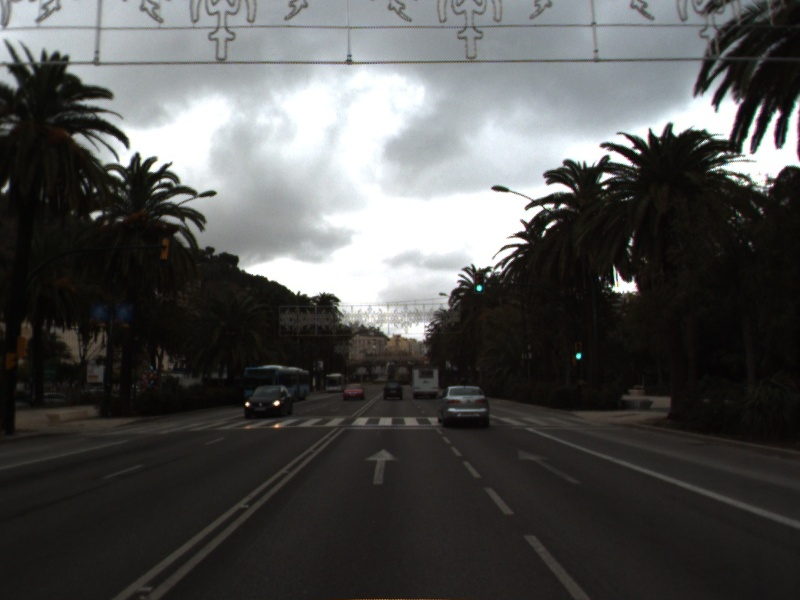STRAIGHT: (515, 447, 584, 486), (362, 446, 402, 486)
